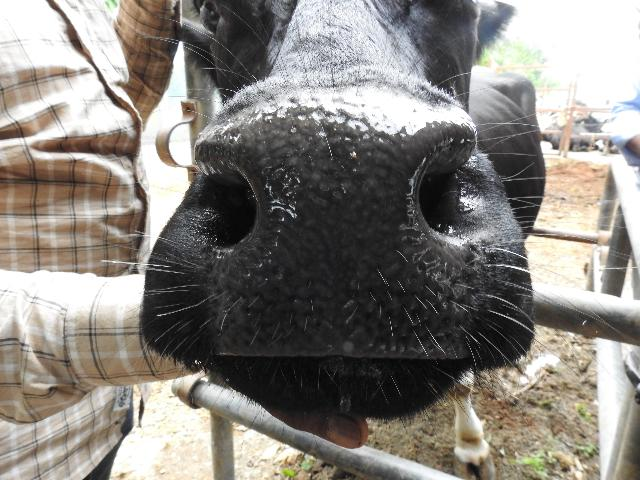Muzzle: (248, 116, 432, 354)
